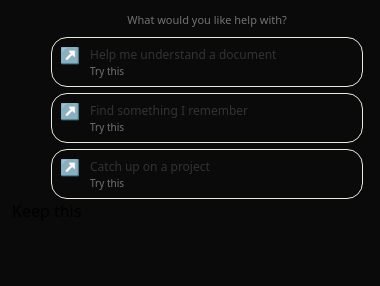
mobile missing send bridge reports failure without changing or sending a draft
Click the button "↗ Help me understand a document Try this" at (207, 62), box left=51, top=36, right=363, bottom=86
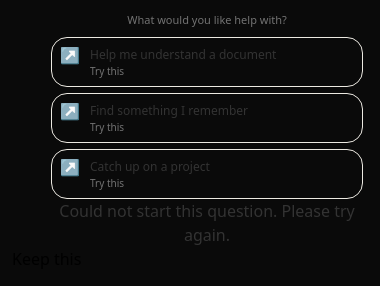
Result: the message "Could not start this question. Please try again." is shown at left=51, top=198, right=363, bottom=246
